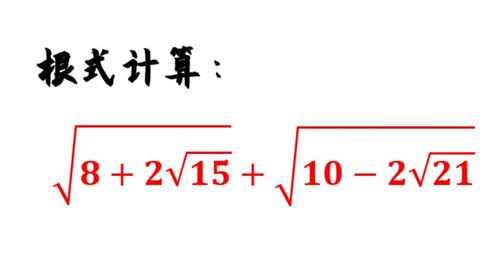sqrt: (277, 121, 479, 213), (49, 121, 237, 207), (411, 150, 476, 192)
